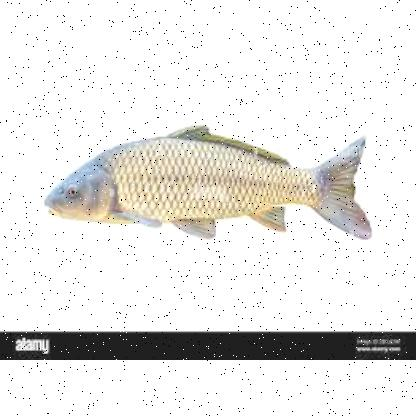ikan-mas: (48, 126, 372, 240)
